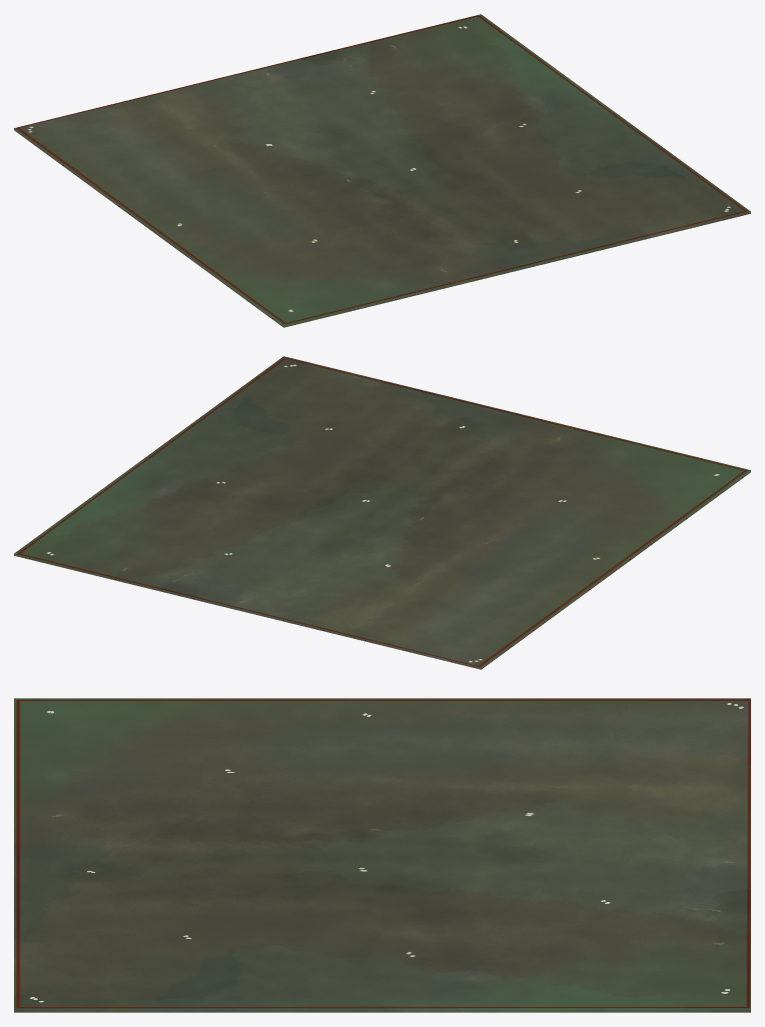
The model's file is nori.fbx.
3 views of the same model, one above another, from view 1: azimuth 30°, elevation 25°; view 2: azimuth 150°, elevation 25°; view 3: azimuth 270°, elevation 25° (orthographic). The views are drawn at different scales.
Parts seen in each view (by area): view 1: nori; view 2: nori; view 3: nori.
Part boxes in pixels (left/top/right/bottom): nori: left=14, top=14, right=750, bottom=327; nori: left=14, top=356, right=750, bottom=669; nori: left=14, top=698, right=750, bottom=1012.
Size of the model in its own units: 33.19 by 0.1452 by 33.19.
